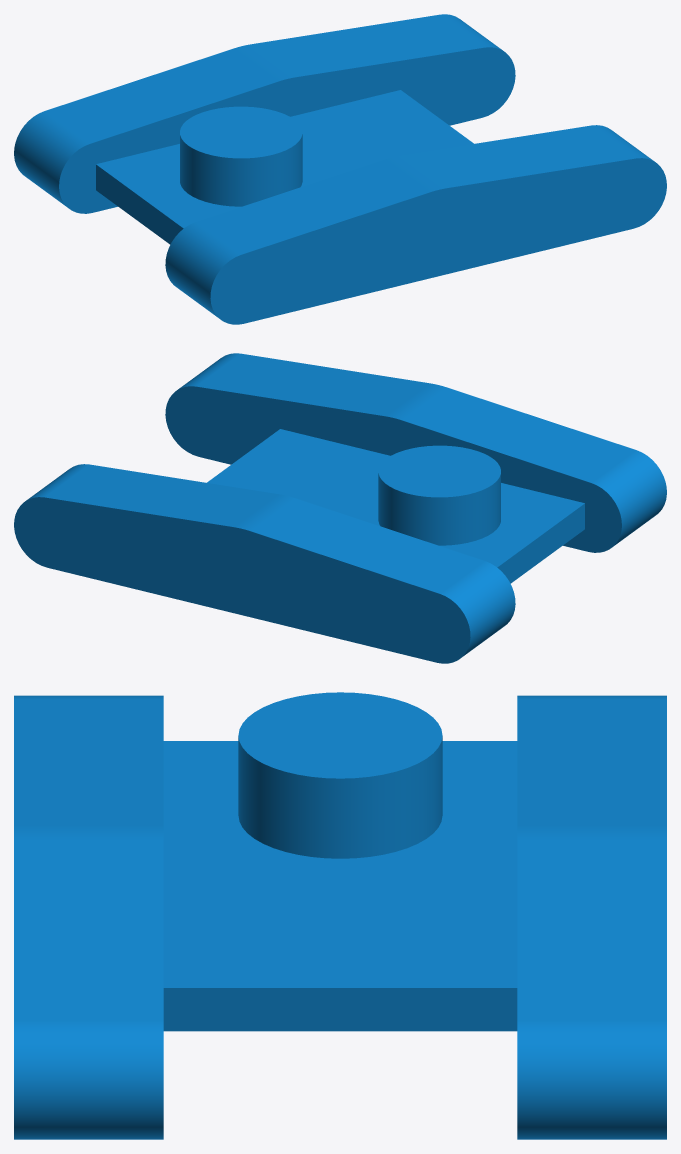
Rendered from ExcavatorBase_Primary.fbx.
The picture shows the model from 3 angles, top to bottom: view 1: azimuth 30°, elevation 25°; view 2: azimuth 150°, elevation 25°; view 3: azimuth 270°, elevation 25°; orthographic projection. The views are drawn at different scales.
Visible parts, largest first — view 1: ExcavatorBase_Primary; view 2: ExcavatorBase_Primary; view 3: ExcavatorBase_Primary.
Part boxes in pixels (bbox=[...]): ExcavatorBase_Primary: bbox=[14, 14, 666, 324]; ExcavatorBase_Primary: bbox=[14, 353, 666, 663]; ExcavatorBase_Primary: bbox=[14, 692, 666, 1139].
Size of the model in its own units: 644 by 129 by 480.
